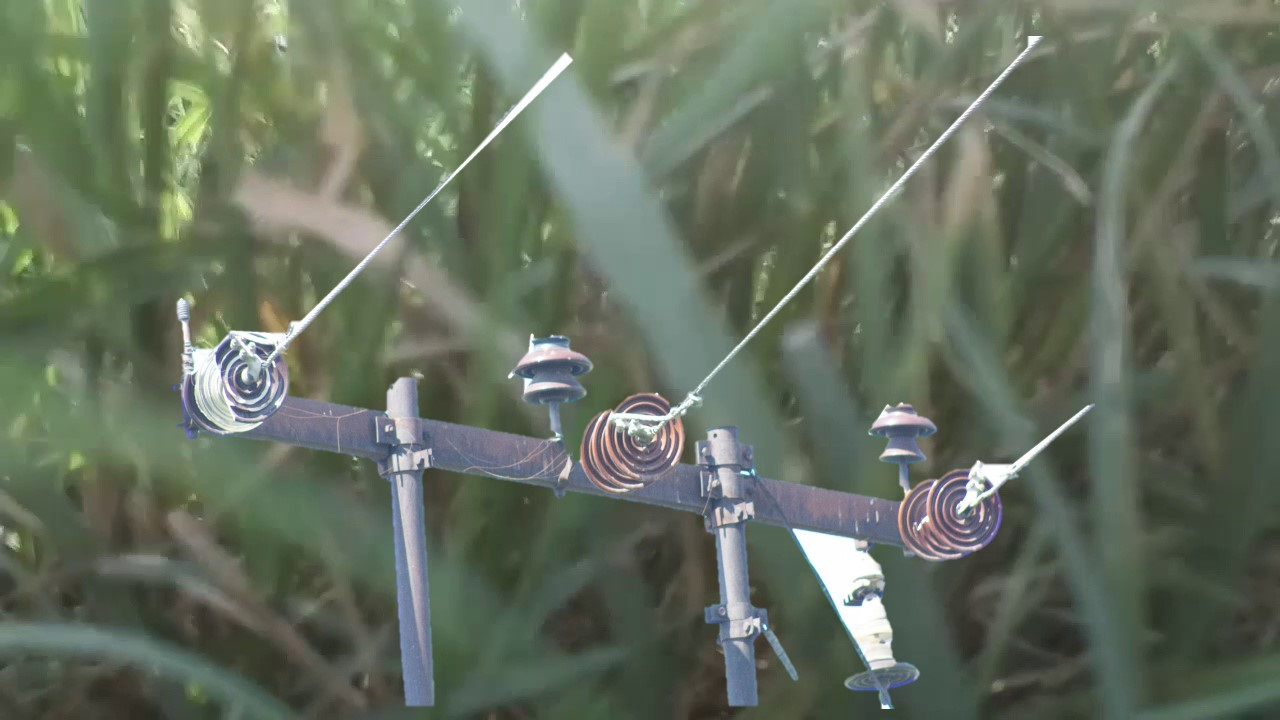defect_disc: (213, 324, 293, 426)
insulator_disc: (599, 385, 686, 486), (923, 458, 1008, 560)
